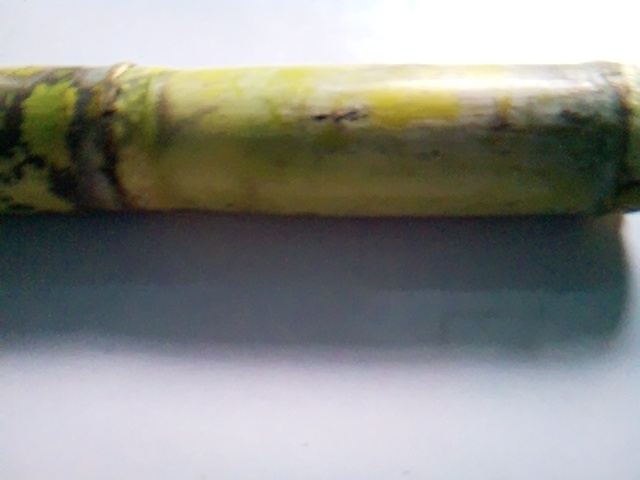Good Sugarcane: (0, 67, 635, 216)
Node: (53, 55, 184, 217)
